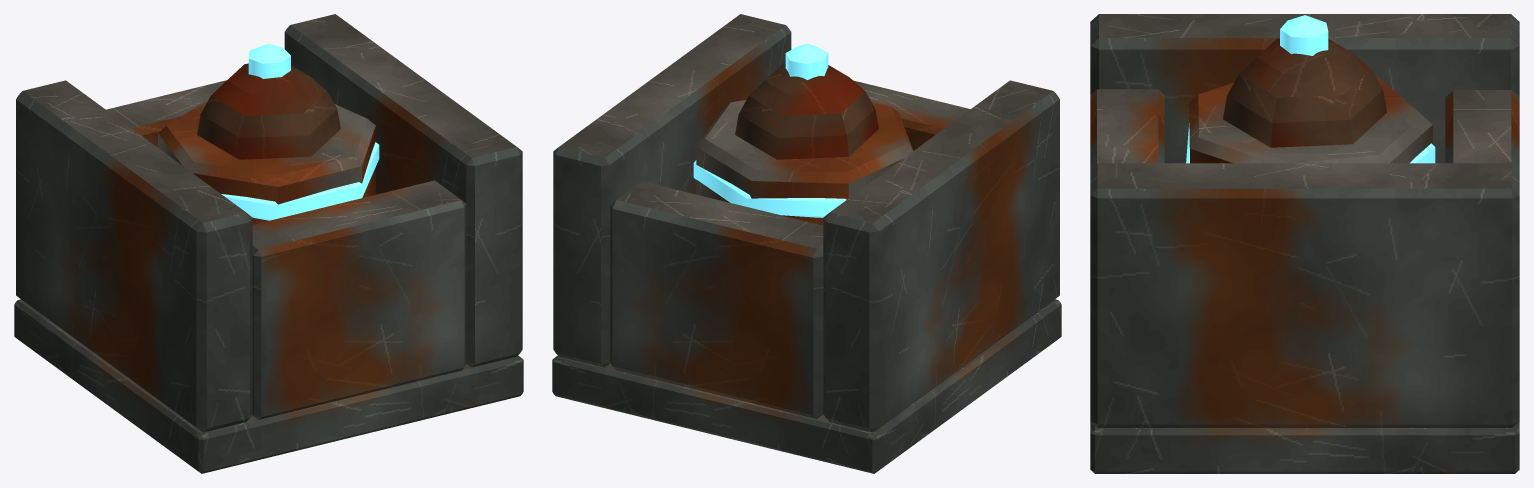
The model's file is R4X_DeployableShieldGenerator_LOD1.glb.
The picture shows the model from 3 angles, left to right: view 1: azimuth 30°, elevation 25°; view 2: azimuth 150°, elevation 25°; view 3: azimuth 270°, elevation 25°; orthographic projection. The views are drawn at different scales.
Visible parts, largest first — view 1: R4X_DeployableShieldGenerator_LOD1; view 2: R4X_DeployableShieldGenerator_LOD1; view 3: R4X_DeployableShieldGenerator_LOD1.
Part boxes in pixels (x1=…): R4X_DeployableShieldGenerator_LOD1: x1=14, y1=14, x2=523, y2=473; R4X_DeployableShieldGenerator_LOD1: x1=552, y1=14, x2=1061, y2=473; R4X_DeployableShieldGenerator_LOD1: x1=1090, y1=14, x2=1519, y2=473.
Size of the model in its own units: 0.52 by 0.495 by 0.52.
Materials: 4 (3 with a texture image).
